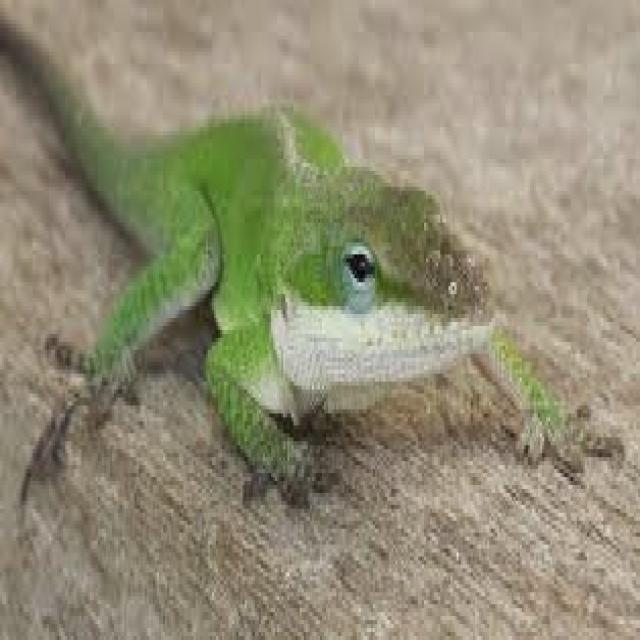lizard: (0, 12, 618, 493)
